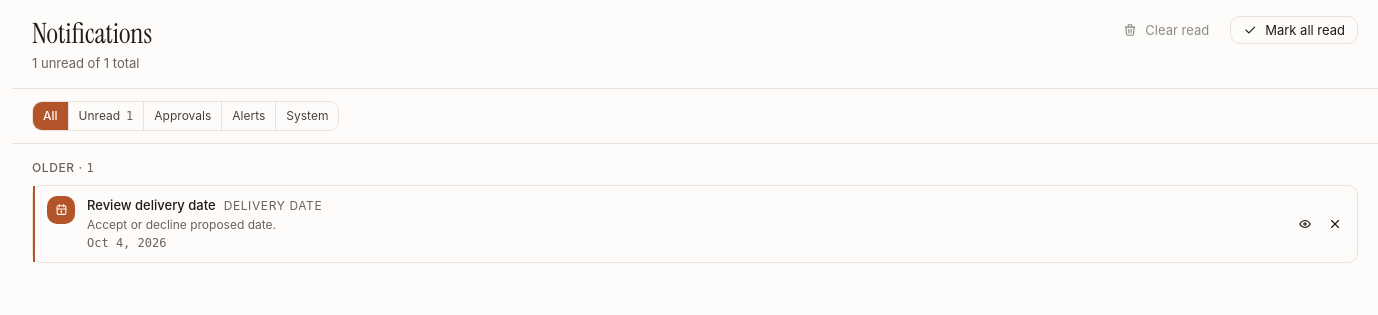
portal inbox marks its own notice read and navigates to customer next step
What coordinates should you click on to do the following:
click the link with aria-label "Review delivery date: Accept or decline proposed date."
I would click on:
 (185, 223)
Its box is [47,196,322,250].
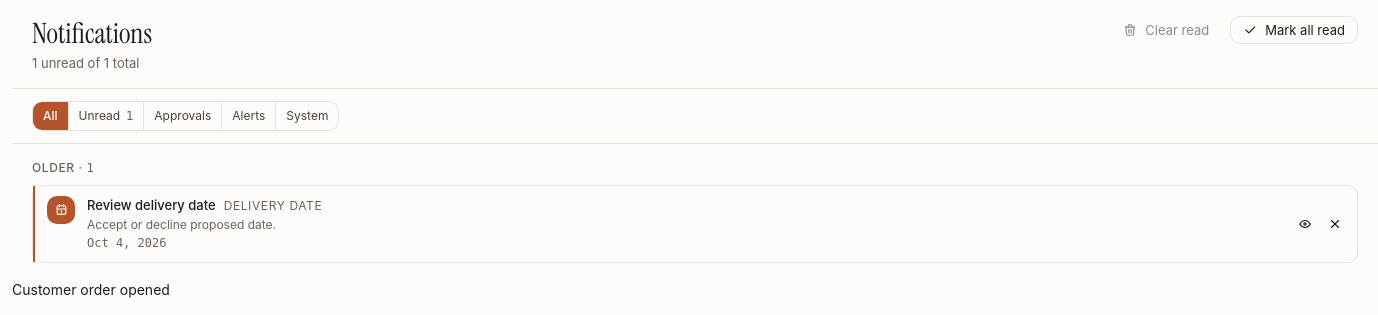
Expected: the text "Customer order opened" is shown, [12,281,170,298]
